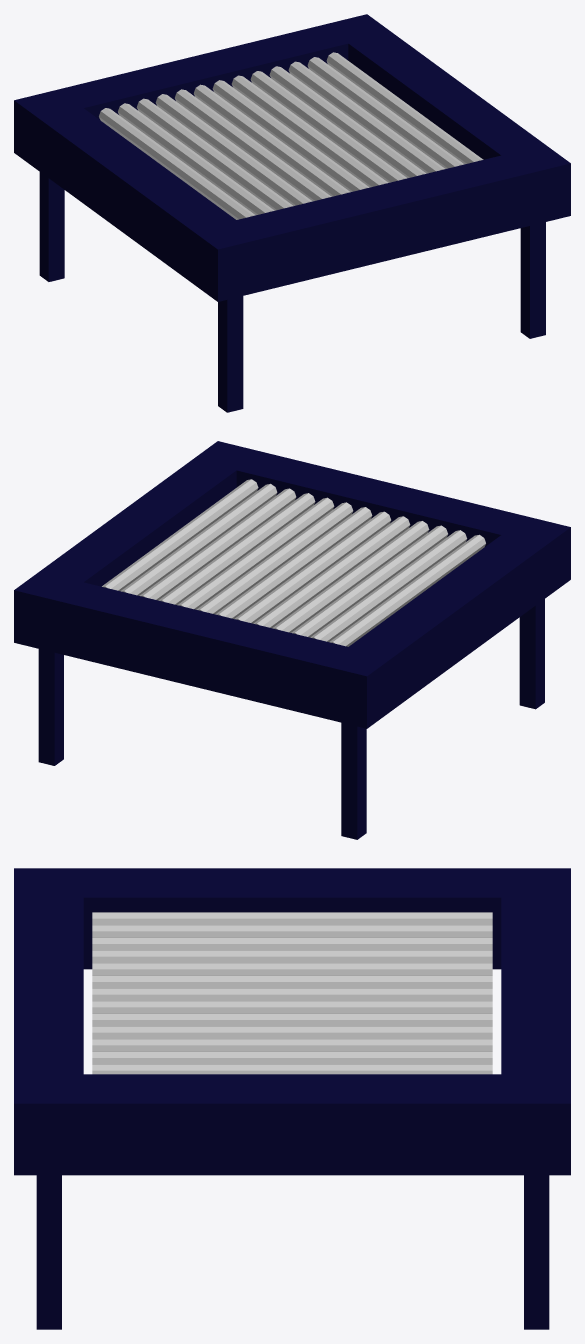
3 renders of one model, top to bottom at view 1: azimuth 30°, elevation 25°; view 2: azimuth 150°, elevation 25°; view 3: azimuth 270°, elevation 25°, orthographic. The views are drawn at different scales.
Parts seen in each view (by area): view 1: cube, cyclinder; view 2: cube, cyclinder; view 3: cube, cyclinder.
Boxes of the visible parts, x1,y1,x2,y2 form: cube: [14, 14, 570, 412]; cyclinder: [99, 52, 483, 219]; cube: [14, 441, 570, 839]; cyclinder: [102, 479, 485, 646]; cube: [14, 868, 570, 1329]; cyclinder: [92, 912, 492, 1074].
Bounding box in the file's own units: 2 × 0.94 × 2.
